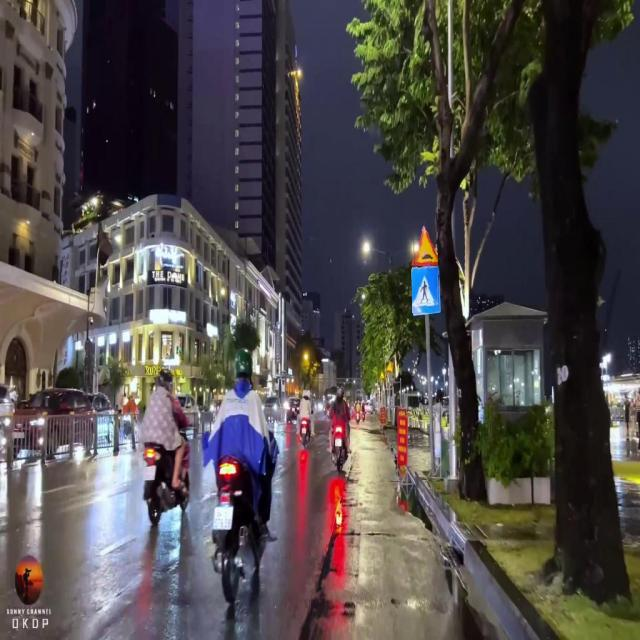chu_y_nguoi_di_bo_cat_ngang: (386, 362, 393, 372)
duong_co_song_map_mo_nhan_tao: (411, 224, 438, 266)
duong_nguoi_di_bo_sang_ngang: (412, 266, 440, 314)
